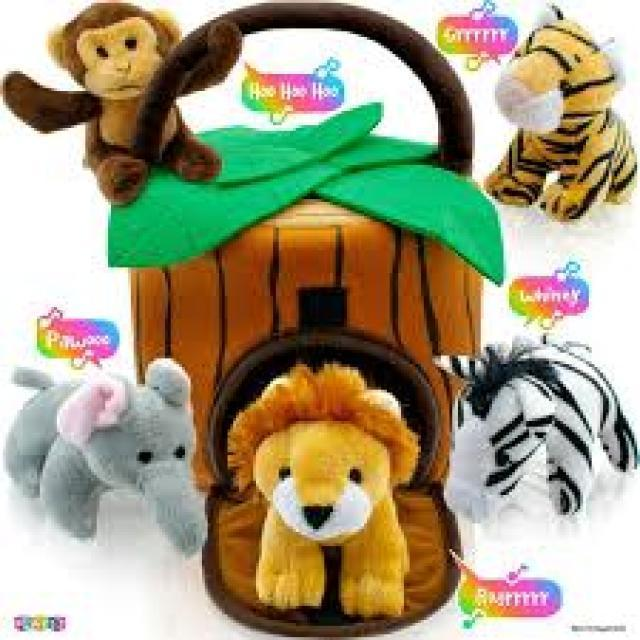soft-toy: (229, 365, 420, 619), (6, 360, 206, 554), (4, 4, 181, 205), (447, 346, 640, 522), (486, 14, 637, 221), (496, 11, 619, 139), (162, 107, 220, 180), (494, 180, 541, 204)
